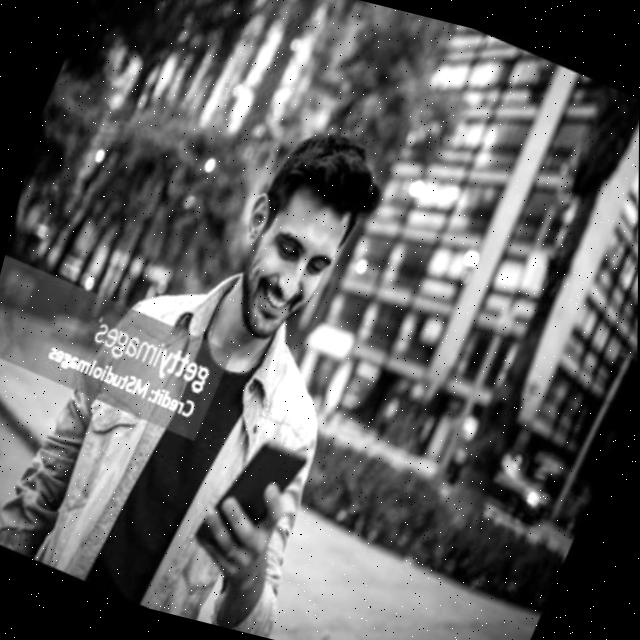phone: (190, 422, 314, 578)
